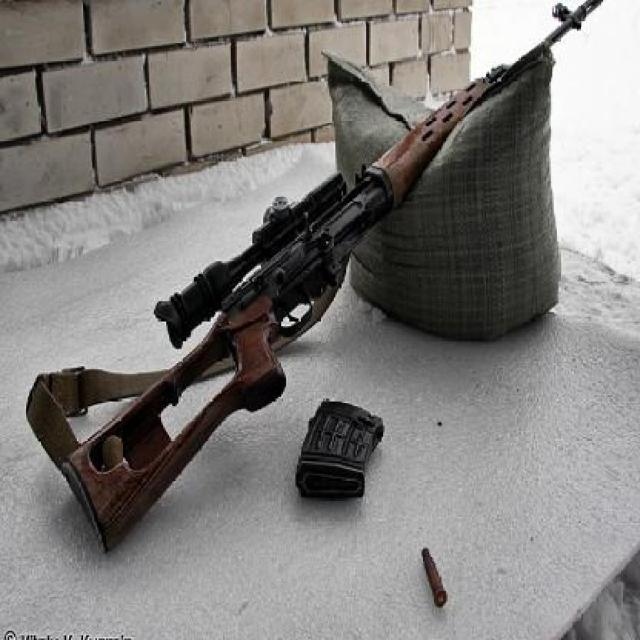weapon: (16, 0, 639, 587)
